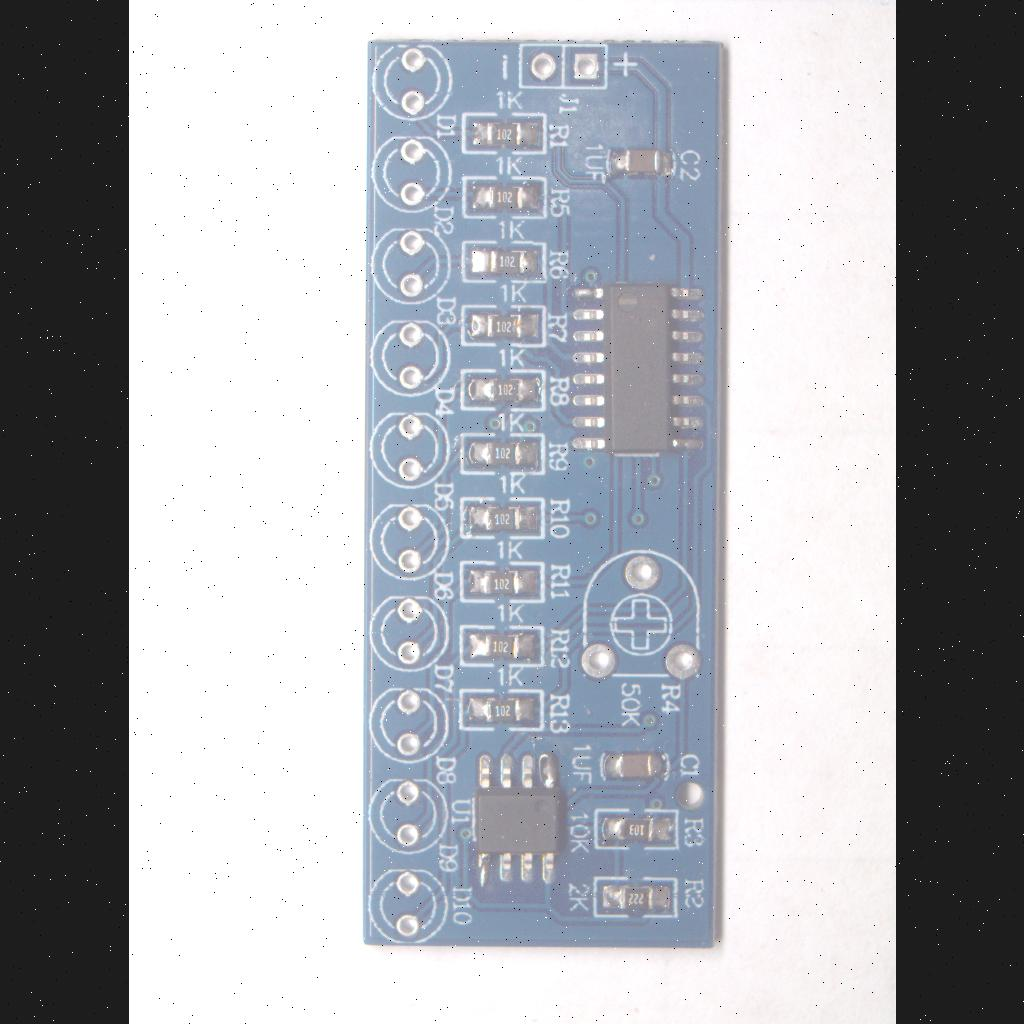OK: (562, 274, 714, 464), (467, 746, 567, 898), (590, 873, 682, 921), (456, 110, 548, 158), (456, 623, 548, 671), (460, 172, 548, 222), (456, 686, 546, 734), (458, 239, 548, 287), (457, 558, 547, 606), (458, 494, 548, 542), (458, 430, 548, 478), (456, 367, 548, 413), (590, 806, 680, 852), (459, 304, 547, 350), (597, 749, 675, 787), (604, 146, 678, 182)
